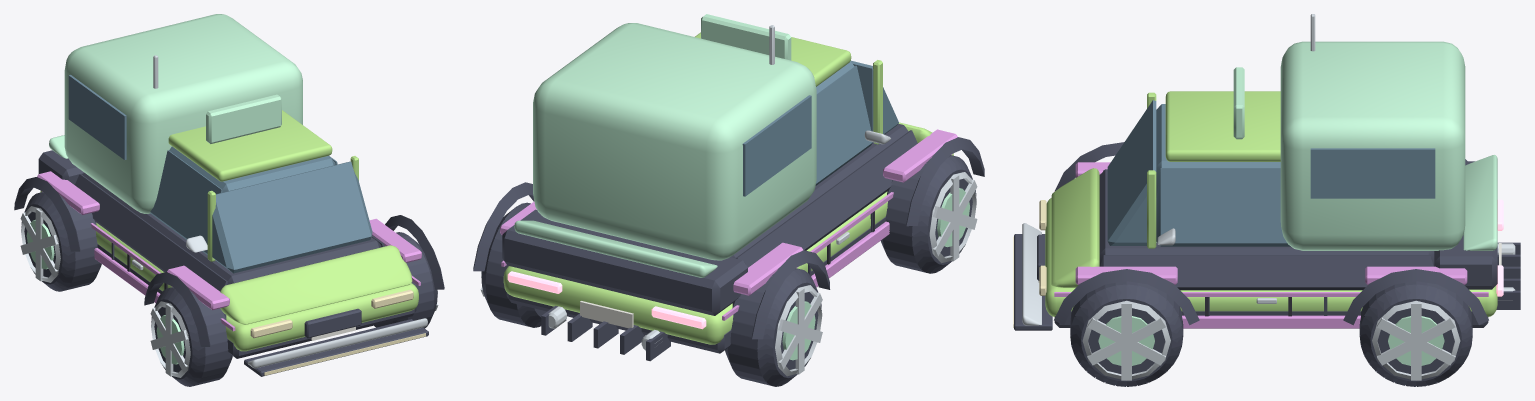
Rendered from harbor_van.fbx.
3 views of the same model, side by side, from view 1: azimuth 30°, elevation 25°; view 2: azimuth 150°, elevation 25°; view 3: azimuth 270°, elevation 25° (orthographic). The views are drawn at different scales.
Parts seen in each view (by area): view 1: Accent3, Glass, Body, Trim, Accent, Metal, Wheel_FR, Wheel_RR, Light3, Accent2, Light, Wheel_FL (+1 smaller); view 2: Accent3, Trim, Glass, Body, Metal, Accent, Wheel_RR, Wheel_FR, Wheel_RL, Light3, Light2, Metal2 (+2 smaller); view 3: Accent3, Trim, Glass, Body, Metal, Wheel_FL, Wheel_RL, Accent, Accent2, Metal2, Light3, Light (+1 smaller).
Boxes of the visible parts, x1,y1,x2,y2 form: Accent3: (49, 14, 302, 213); Glass: (68, 75, 372, 273); Body: (40, 110, 418, 351); Trim: (14, 150, 444, 376); Accent: (37, 171, 421, 331); Metal: (20, 206, 438, 377); Wheel_FR: (151, 287, 232, 386); Wheel_RR: (21, 192, 101, 291); Light3: (206, 94, 281, 143); Accent2: (153, 55, 427, 368); Light: (250, 289, 425, 375); Wheel_FL: (374, 232, 437, 328); Accent3: (514, 23, 816, 277); Trim: (473, 124, 984, 361); Glass: (742, 60, 898, 196); Body: (503, 32, 953, 344); Metal: (480, 172, 977, 376); Accent: (500, 129, 957, 320); Wheel_RR: (725, 268, 821, 386); Wheel_FR: (881, 155, 976, 273); Wheel_RL: (481, 202, 546, 327); Light3: (701, 14, 791, 60); Light2: (507, 271, 706, 329); Metal2: (782, 188, 969, 360); Accent3: (1156, 41, 1497, 250); Trim: (1014, 142, 1520, 330); Glass: (1107, 100, 1435, 246); Body: (1045, 91, 1497, 316); Metal: (1082, 243, 1515, 380); Wheel_FL: (1070, 281, 1183, 386); Wheel_RL: (1359, 281, 1472, 386); Accent: (1054, 162, 1488, 328); Accent2: (1022, 14, 1315, 325); Metal2: (1098, 316, 1444, 365); Light3: (1233, 67, 1244, 139); Light: (1013, 200, 1046, 327).
Size of the model in its own units: 3.31 by 3.15 by 5.17.
